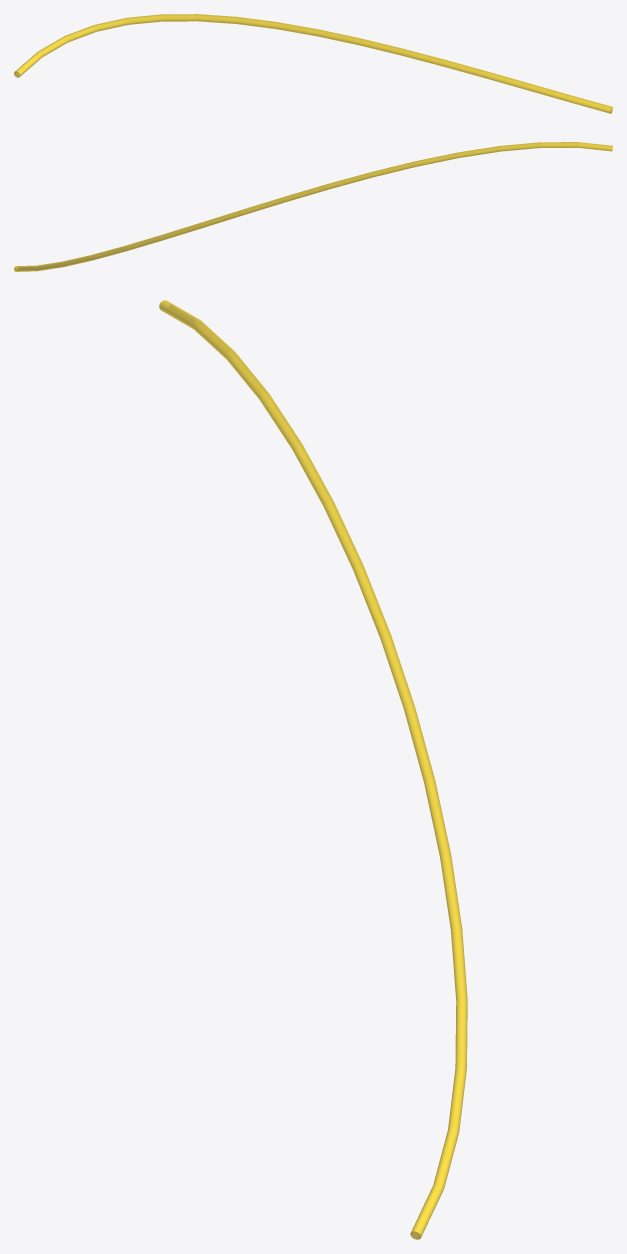
The model's file is Event_100608114_track_60.fbx.
3 views of the same model, one above another, from view 1: azimuth 30°, elevation 25°; view 2: azimuth 150°, elevation 25°; view 3: azimuth 270°, elevation 25° (orthographic). The views are drawn at different scales.
Visible parts, largest first — view 1: Model; view 2: Model; view 3: Model.
Part boxes in pixels (<box>): Model: <box>14,14,612,113</box>; Model: <box>14,142,612,271</box>; Model: <box>159,300,467,1239</box>.
Size of the model in its own units: 4.28 by 1.63 by 1.07.
